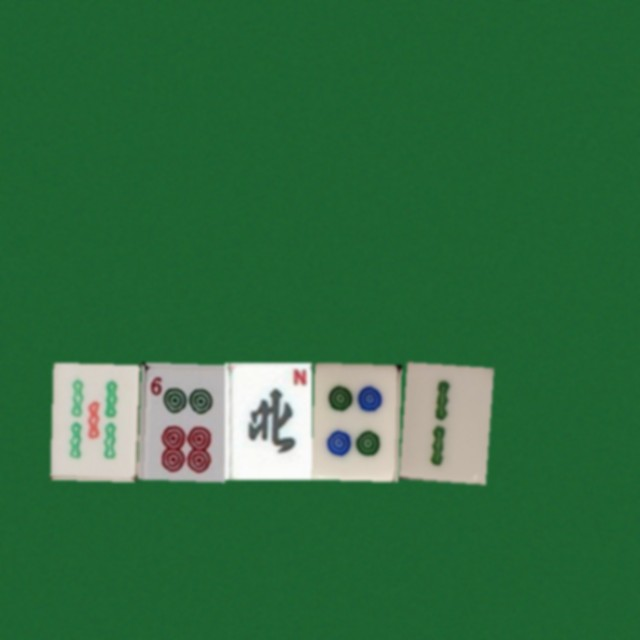tile: (50, 362, 137, 479), (137, 362, 224, 479), (224, 362, 311, 479), (311, 362, 398, 479), (398, 362, 485, 479)
